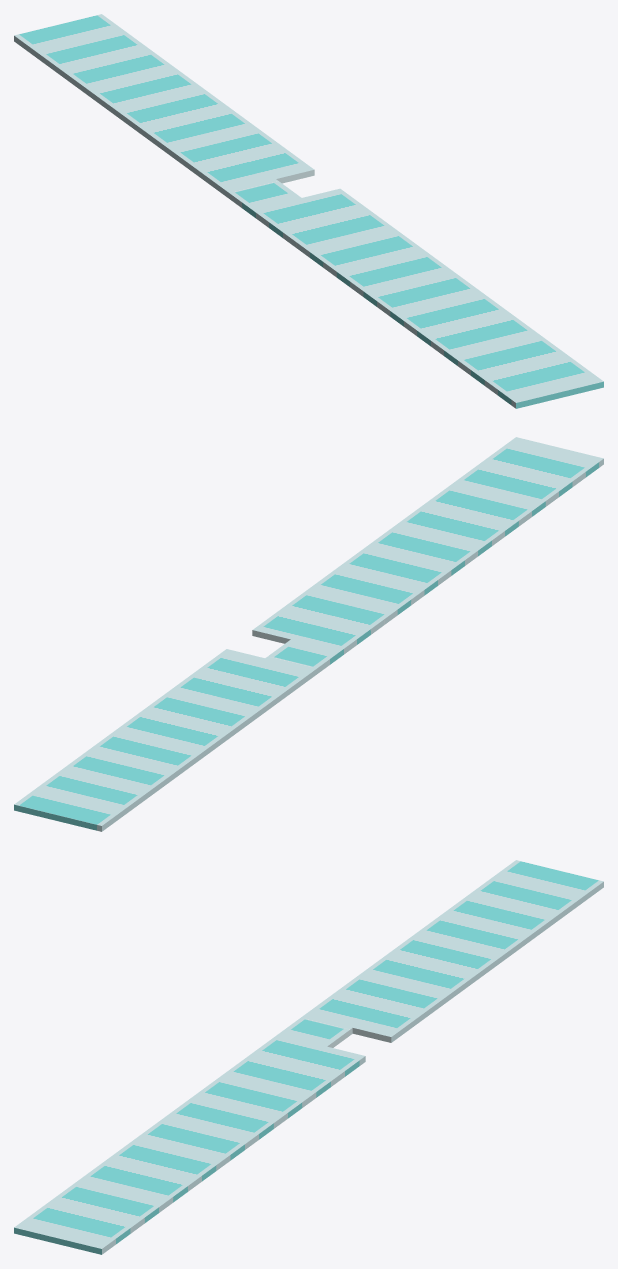
The model's file is kesikplatform.fbx.
3 views of the same model, one above another, from view 1: azimuth 30°, elevation 25°; view 2: azimuth 150°, elevation 25°; view 3: azimuth 330°, elevation 25° (orthographic).
Visible parts, largest first — view 1: Cube.012; view 2: Cube.012; view 3: Cube.012.
Boxes of the visible parts, <box> form: Cube.012: <box>14,14,603,408</box>; Cube.012: <box>14,437,603,831</box>; Cube.012: <box>14,860,603,1254</box>.
Size of the model in its own units: 3712 by 239 by 36748.
